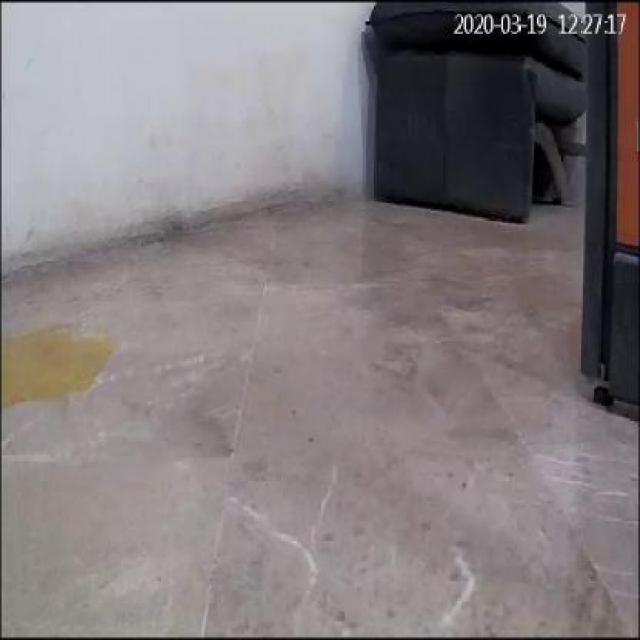spill: (9, 326, 112, 404)
